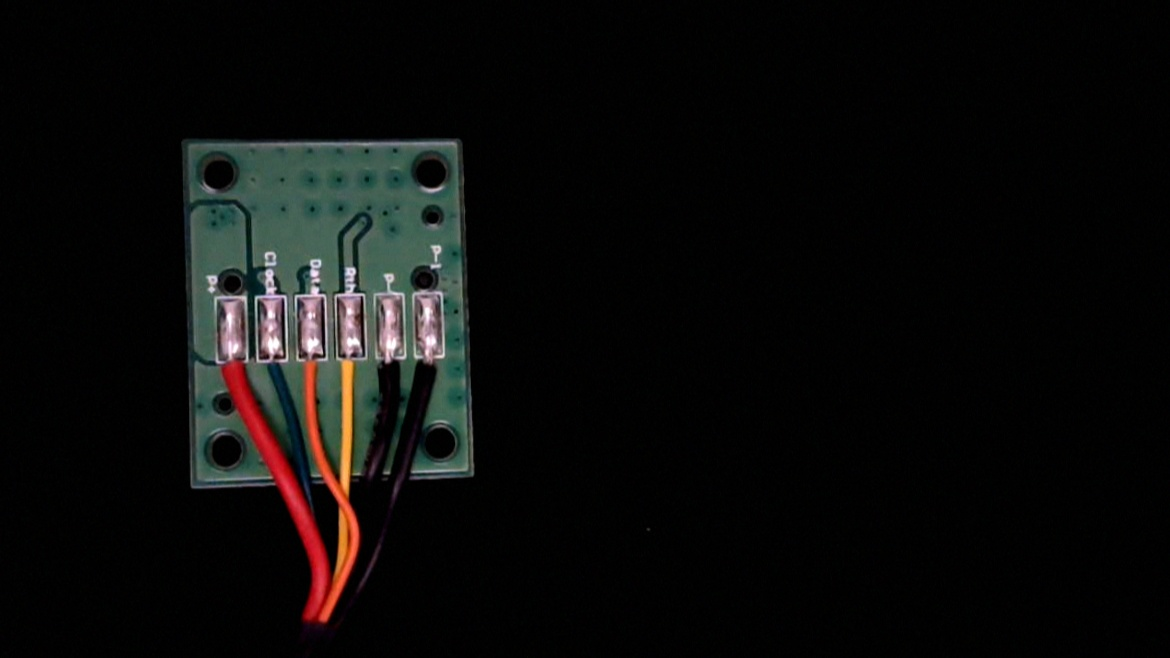Black: (375, 339, 406, 408)
Black1: (415, 339, 445, 409)
Green: (258, 341, 288, 410)
Orange: (297, 343, 328, 404)
Red: (216, 342, 246, 411)
Yellow: (335, 340, 366, 412)
